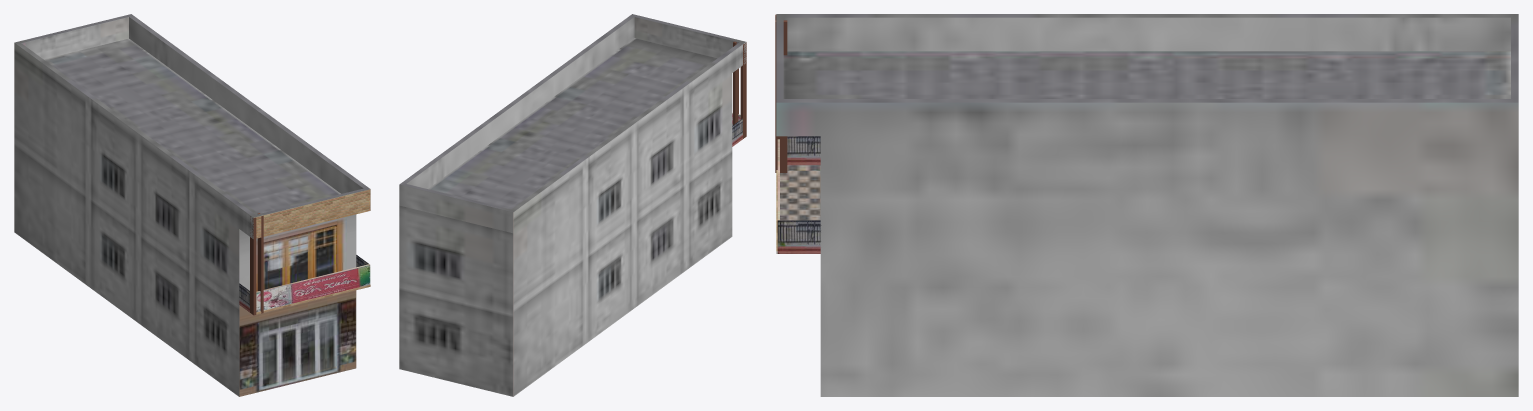
3 renders of one model, left to right at view 1: azimuth 30°, elevation 25°; view 2: azimuth 150°, elevation 25°; view 3: azimuth 270°, elevation 25°, orthographic. The views are drawn at different scales.
Visible parts, largest first — view 1: 5da922f529255d11bc13eb3d.001; view 2: 5da922f529255d11bc13eb3d.001; view 3: 5da922f529255d11bc13eb3d.001.
Part boxes in pixels (<box>): 5da922f529255d11bc13eb3d.001: <box>14,14,370,396</box>; 5da922f529255d11bc13eb3d.001: <box>399,14,746,396</box>; 5da922f529255d11bc13eb3d.001: <box>775,14,1518,396</box>.
Size of the model in its own units: 5.65 by 8.75 by 20.02.
1 material, 1 textured.
